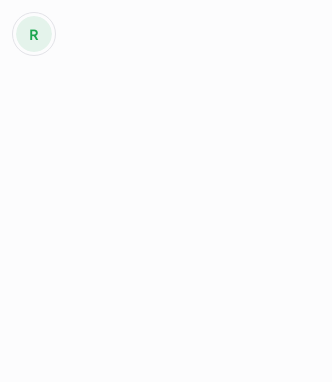
UserMenu › opens a menu with the account details and actions
The image size is (332, 382).
Press the mouse on the button named "account menu" at (34, 34), box [12,12,56,56]
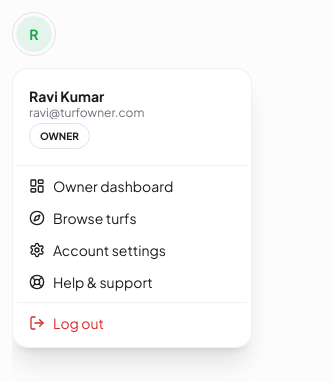
Result: the menu is shown at [12,68,252,348]
Result: the text "Ravi Kumar" is shown at [29,87,104,105]
Result: the text "ravi@turfowner.com" is shown at [29,105,144,120]
